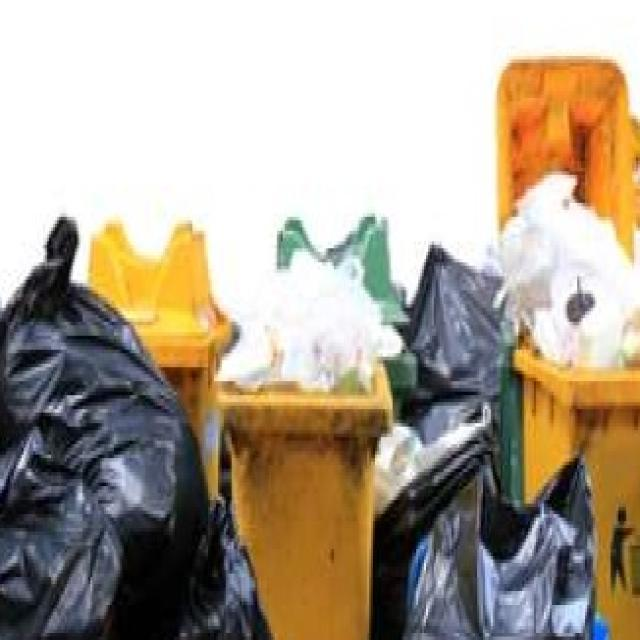Trashbag: (0, 208, 270, 640), (414, 461, 606, 640), (410, 239, 510, 401)
